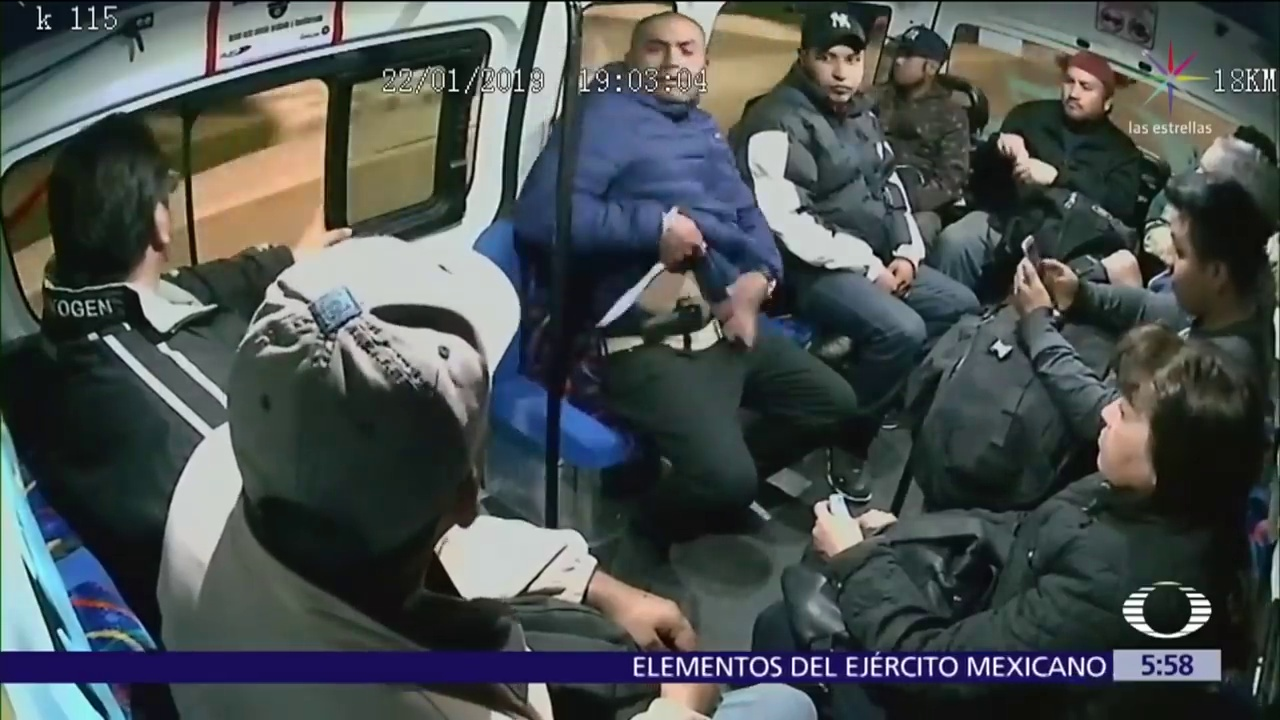pistol: (640, 295, 704, 349)
